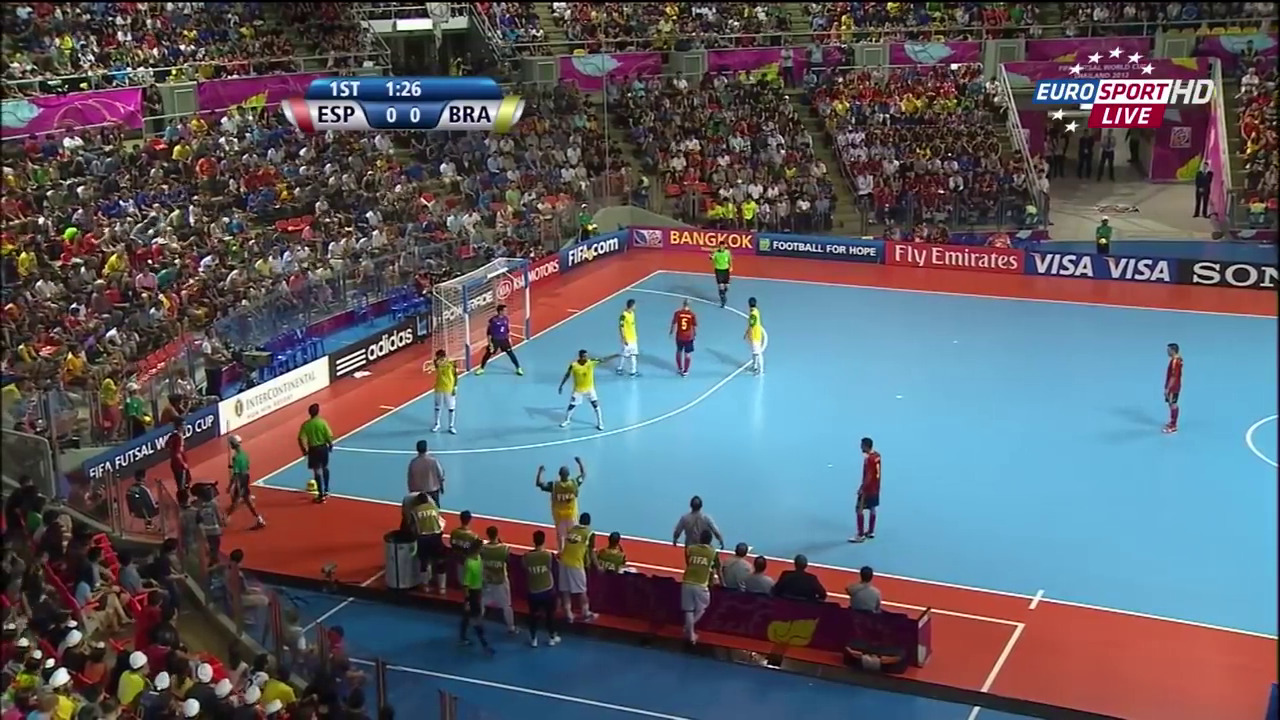ball: (305, 475, 322, 496)
person: (550, 346, 610, 431), (840, 437, 886, 545), (474, 301, 526, 382), (1151, 341, 1189, 438), (157, 418, 199, 504), (424, 348, 460, 437), (664, 291, 698, 377), (606, 297, 643, 376), (741, 293, 771, 373)
